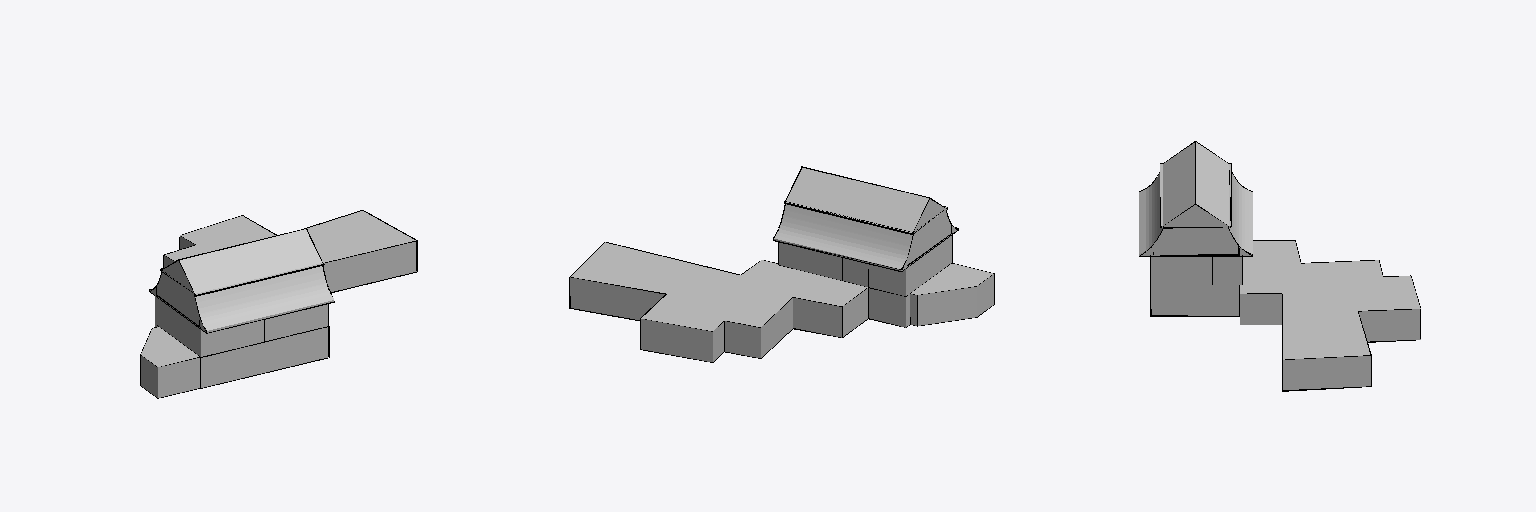
The model's file is H19_wireframe_transparent.obj.
3 renders of one model, left to right at view 1: azimuth 30°, elevation 25°; view 2: azimuth 150°, elevation 25°; view 3: azimuth 270°, elevation 25°, orthographic.
Parts seen in each view (by area): view 1: Haus_19_v5_Material.005, Haus_19.001_Material.006; view 2: Haus_19_v5_Material.005, Haus_19.001_Material.006; view 3: Haus_19_v5_Material.005, Haus_19.001_Material.006.
Part boxes in pixels (left/top/right/bottom): Haus_19_v5_Material.005: left=141, top=211, right=416, bottom=397; Haus_19.001_Material.006: left=140, top=210, right=417, bottom=398; Haus_19_v5_Material.005: left=570, top=168, right=993, bottom=361; Haus_19.001_Material.006: left=569, top=166, right=994, bottom=362; Haus_19_v5_Material.005: left=1139, top=142, right=1420, bottom=389; Haus_19.001_Material.006: left=1139, top=141, right=1420, bottom=391.
Size of the model in its own units: 170 by 56.67 by 128.